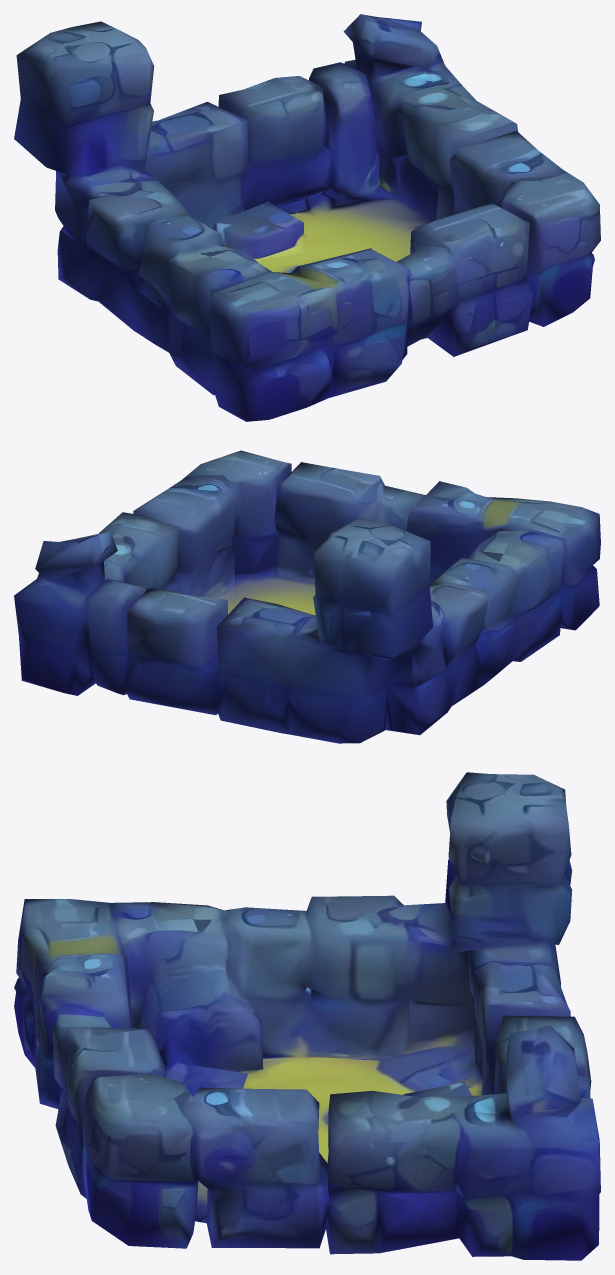
Rendered from camp_ruin-BgUcRNyS.glb.
3 views of the same model, one above another, from view 1: azimuth 30°, elevation 25°; view 2: azimuth 150°, elevation 25°; view 3: azimuth 270°, elevation 25° (orthographic). The views are drawn at different scales.
Visible parts, largest first — view 1: tripo_node_abfa03e2-16d0-4599-9998-9a99d57d9d26; view 2: tripo_node_abfa03e2-16d0-4599-9998-9a99d57d9d26; view 3: tripo_node_abfa03e2-16d0-4599-9998-9a99d57d9d26.
Boxes of the visible parts, <box> form: tripo_node_abfa03e2-16d0-4599-9998-9a99d57d9d26: <box>14,14,600,421</box>; tripo_node_abfa03e2-16d0-4599-9998-9a99d57d9d26: <box>14,450,600,743</box>; tripo_node_abfa03e2-16d0-4599-9998-9a99d57d9d26: <box>14,772,600,1260</box>.
Bounding box in the file's own units: 0.9613 × 0.4961 × 1.
1 material, 1 textured.
